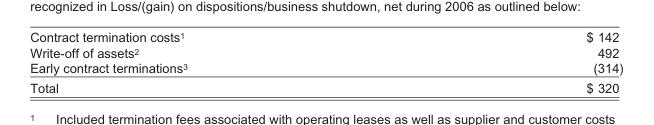table: (29, 29, 622, 94)
table column: (29, 29, 386, 94), (386, 29, 622, 94)
table row: (29, 60, 622, 77), (29, 77, 622, 94), (29, 44, 622, 60), (29, 29, 622, 44)
